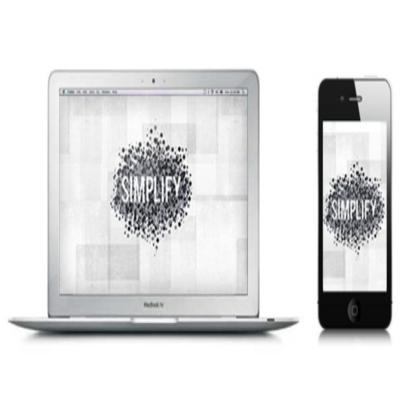board: (10, 69, 299, 336)
